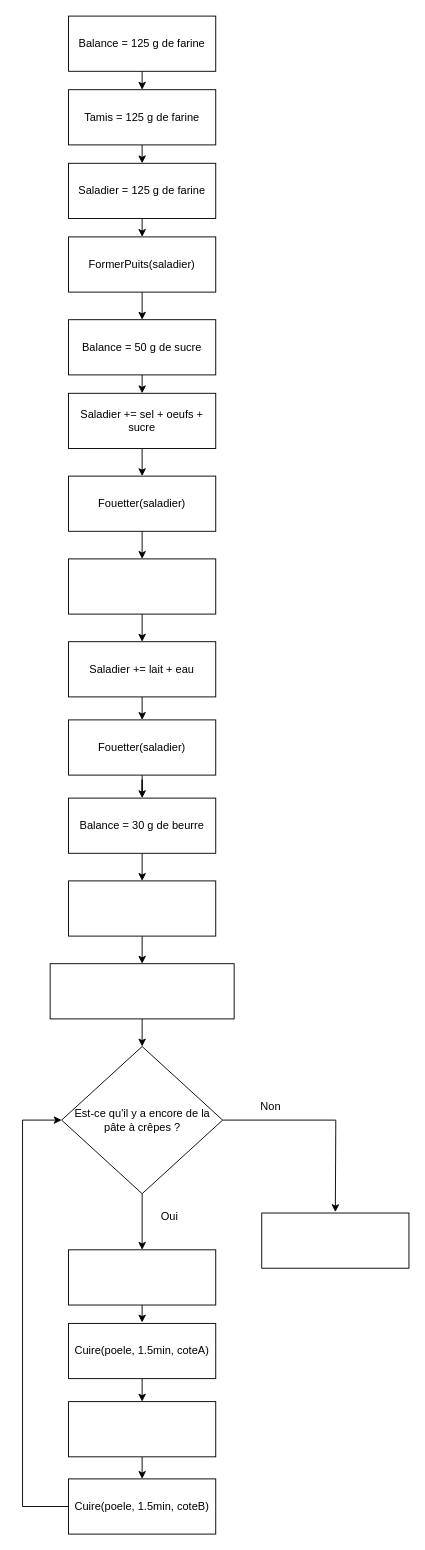
Some shapes in this 425 by 1550 pixel diagram are drawn without their labels. Each missing label, with the box of its shape:
Balance = 300 g de lait: (68, 558, 216, 614)
Manger(crepes): (261, 1212, 409, 1268)
ReposerAuFrais(saladier, 60min): (49, 963, 234, 1019)
Retourner(crepe): (68, 1401, 216, 1457)
Saladier += beurre: (68, 880, 216, 936)
VerserLouche(poele): (68, 1249, 216, 1305)
